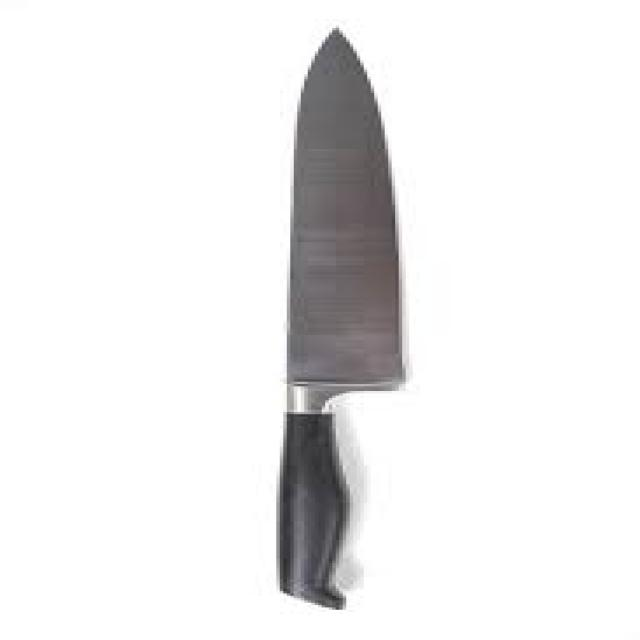Knife: (273, 26, 409, 610)
